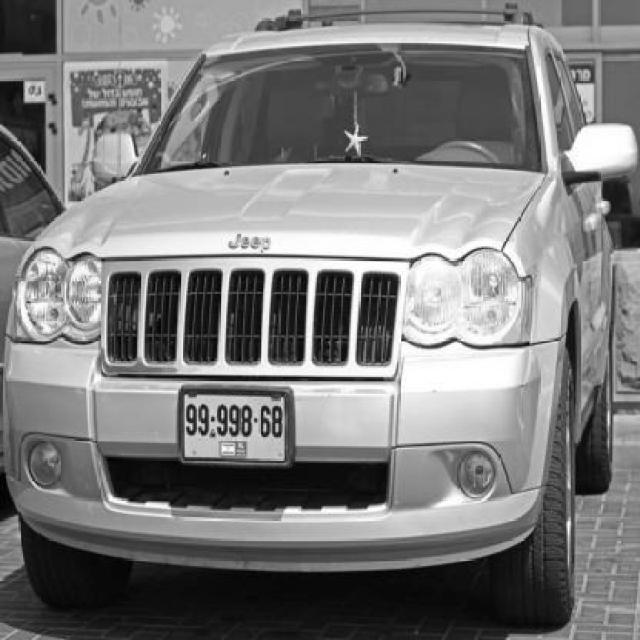car: (3, 25, 615, 628)
license-plate: (178, 388, 294, 468)
